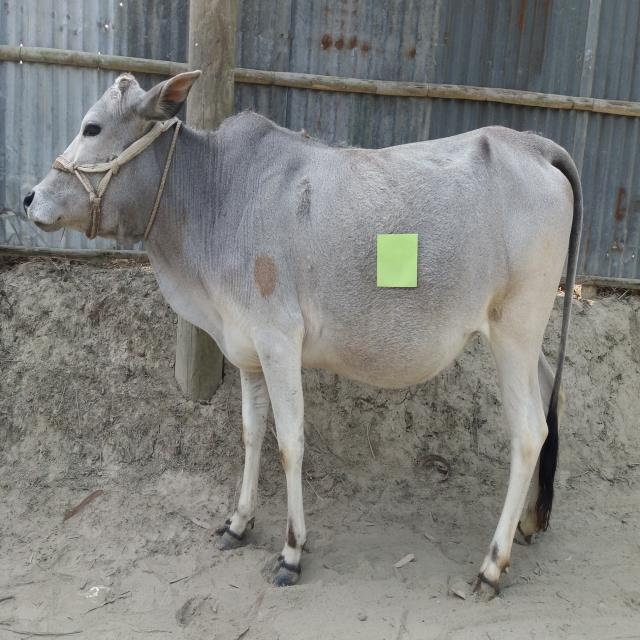badan_sapi: (234, 114, 570, 398)
sapi: (18, 59, 586, 600)
